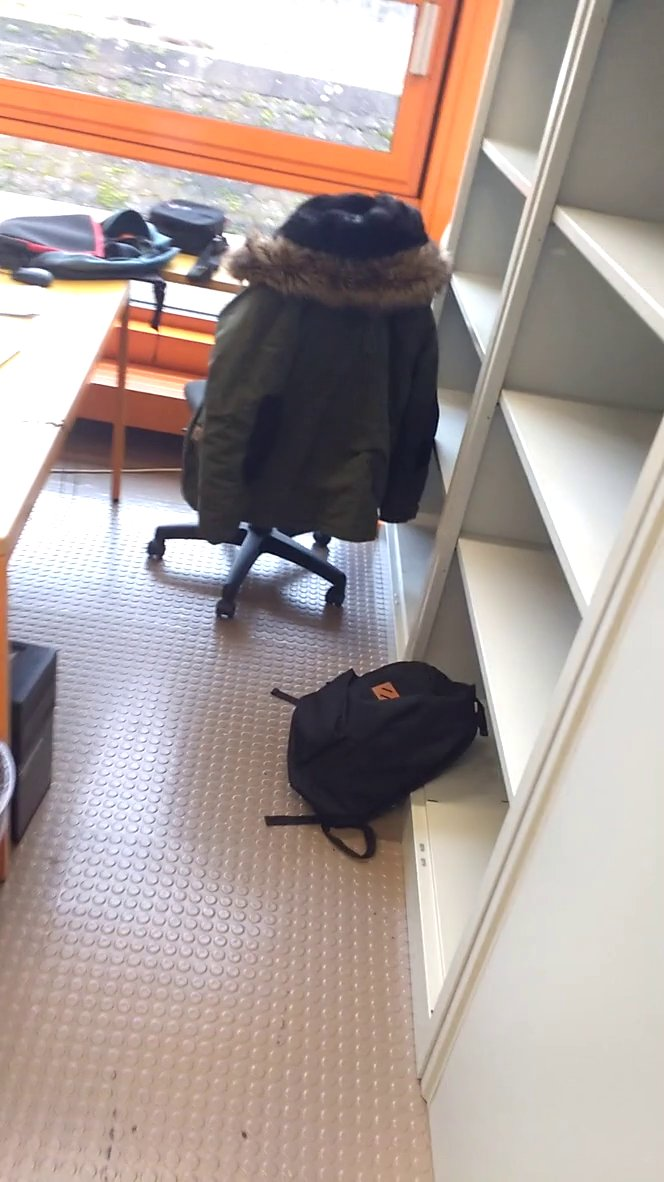bag: (282, 651, 502, 867)
